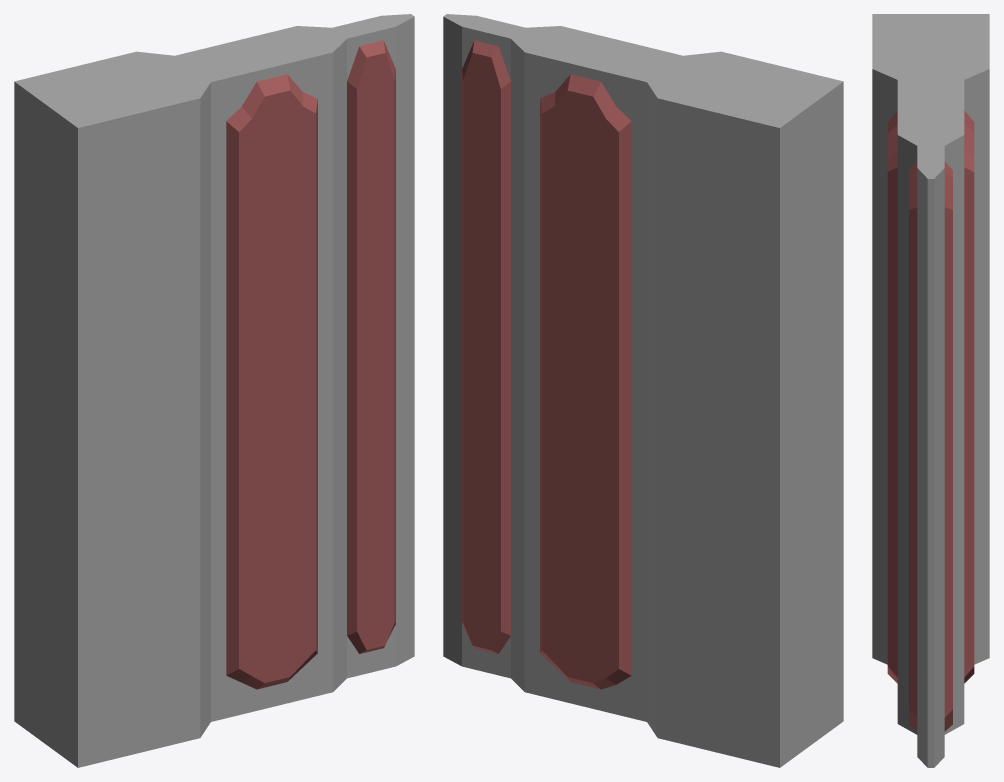
Rendered from door2.fbx.
3 renders of one model, left to right at view 1: azimuth 30°, elevation 25°; view 2: azimuth 150°, elevation 25°; view 3: azimuth 270°, elevation 25°, orthographic. The views are drawn at different scales.
Parts seen in each view (by area): view 1: door2; view 2: door2; view 3: door2.
Part boxes in pixels (bbox=[...]): door2: bbox=[14, 14, 414, 767]; door2: bbox=[443, 14, 843, 767]; door2: bbox=[872, 14, 989, 767].
Size of the model in its own units: 300 by 500 by 90.35.
